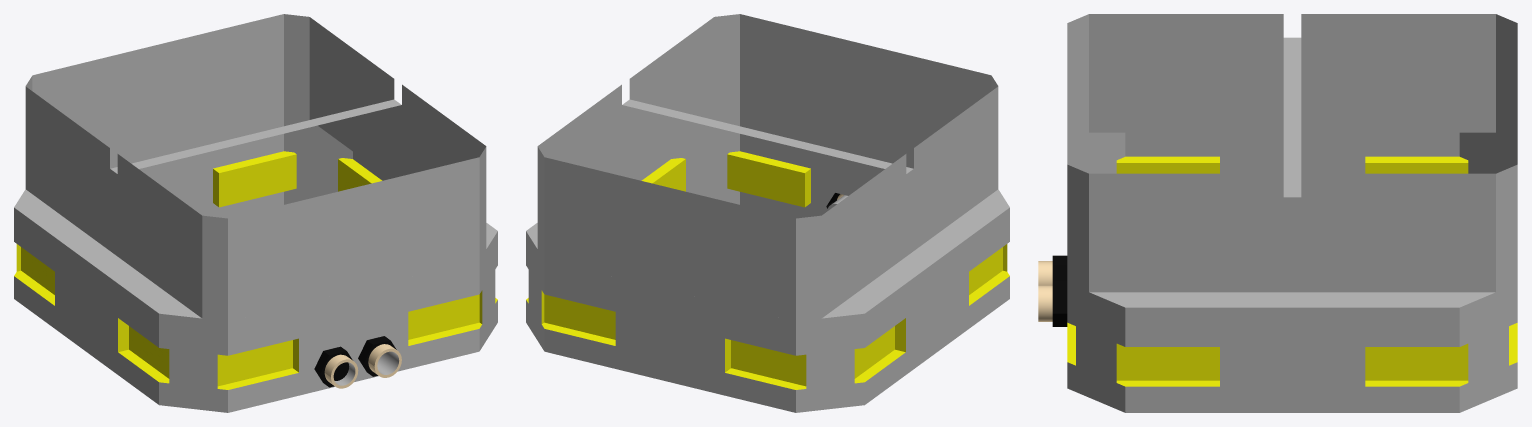
The picture shows the model from 3 angles, left to right: view 1: azimuth 30°, elevation 25°; view 2: azimuth 150°, elevation 25°; view 3: azimuth 270°, elevation 25°; orthographic projection. The views are drawn at different scales.
Parts seen in each view (by area): view 1: base; view 2: base; view 3: base.
Boxes of the visible parts, left/top/right/bottom form: base: left=14, top=14, right=497, bottom=412; base: left=526, top=14, right=1009, bottom=412; base: left=1038, top=14, right=1517, bottom=412.
Size of the model in its own units: 0.155 by 0.085 by 0.165.
